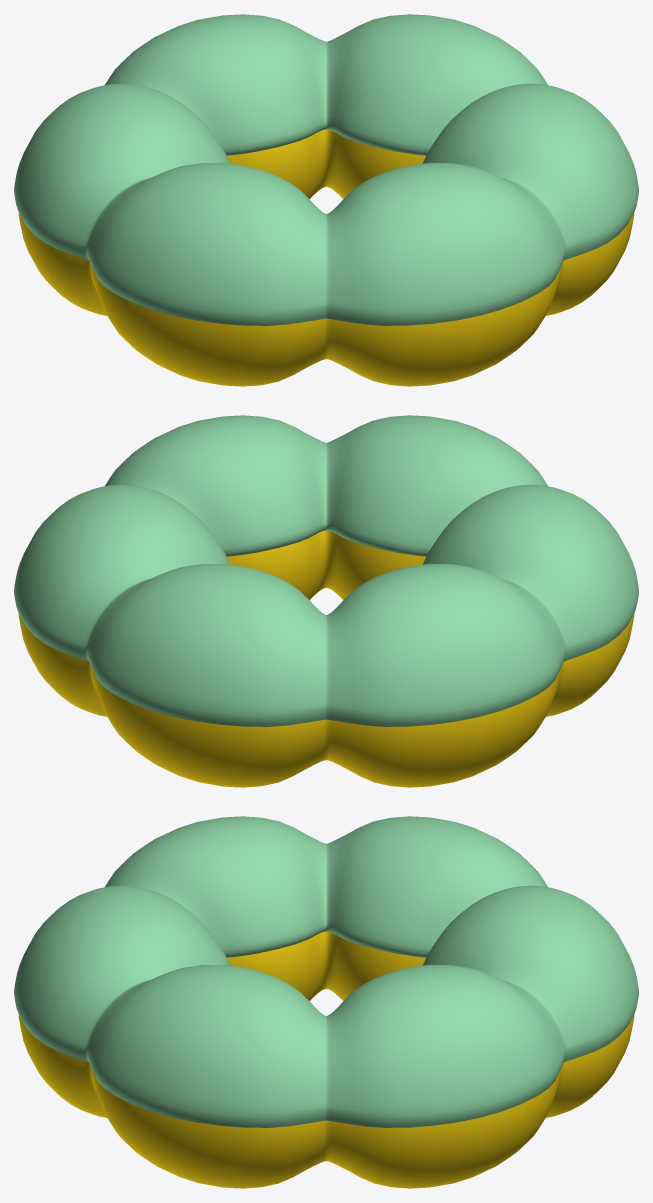
File: Store_14_Donut_10.glb
3 renders of one model, top to bottom at view 1: azimuth 30°, elevation 25°; view 2: azimuth 150°, elevation 25°; view 3: azimuth 270°, elevation 25°, orthographic.
Visible parts, largest first — view 1: Store_14_Donut_10; view 2: Store_14_Donut_10; view 3: Store_14_Donut_10.
Boxes of the visible parts, <box> form: Store_14_Donut_10: <box>14,14,638,386</box>; Store_14_Donut_10: <box>14,415,638,787</box>; Store_14_Donut_10: <box>14,816,638,1188</box>.
Size of the model in its own units: 2.93 by 1.1 by 3.1.
1 material, 1 textured.
